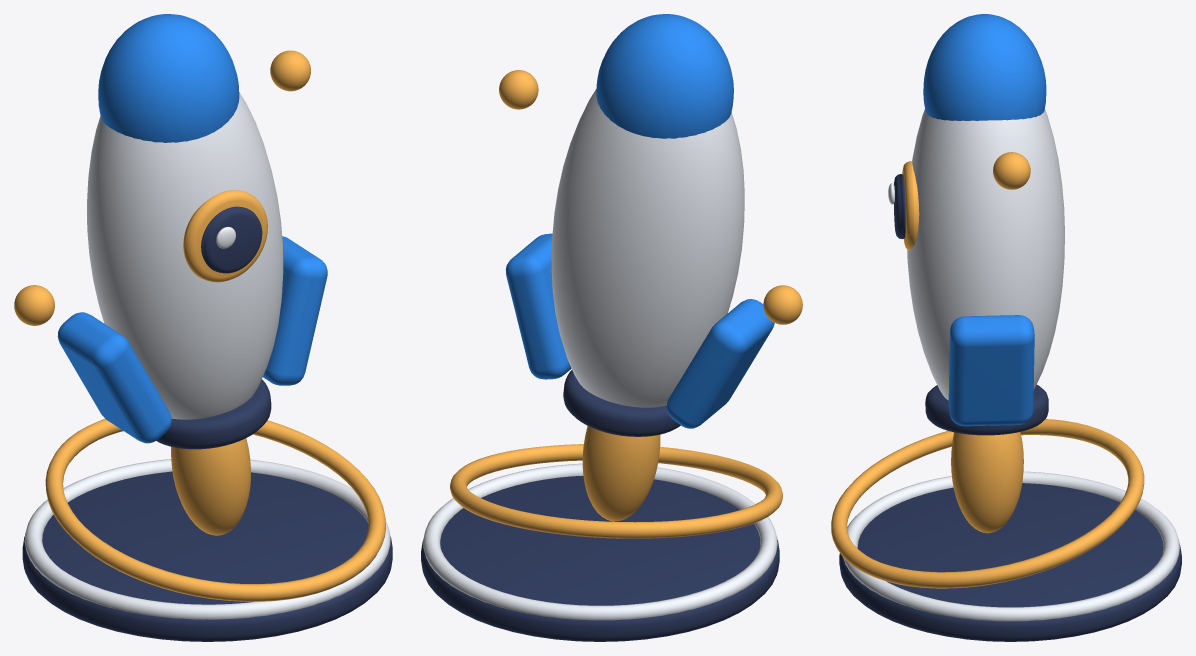
File: carousel-roadmap.glb
3 renders of one model, left to right at view 1: azimuth 30°, elevation 25°; view 2: azimuth 150°, elevation 25°; view 3: azimuth 270°, elevation 25°, orthographic. The views are drawn at different scales.
Visible parts, largest first — view 1: Rocket porcelain hull, Floating display plinth, Rocket cobalt nose, Trajectory, Plinth accent, Swept cobalt fin, Golden thrust, Swept cobalt fin.001, Engine collar, Brass portal rim, Portal midnight glass, Milestone satellite.001 (+1 smaller); view 2: Rocket porcelain hull, Floating display plinth, Rocket cobalt nose, Trajectory, Plinth accent, Swept cobalt fin, Swept cobalt fin.001, Golden thrust, Engine collar, Milestone satellite, Milestone satellite.001; view 3: Rocket porcelain hull, Floating display plinth, Rocket cobalt nose, Trajectory, Swept cobalt fin.001, Plinth accent, Golden thrust, Engine collar, Milestone satellite.001, Brass portal rim, Portal midnight glass.
Part boxes in pixels (box(x1,y1,x2,y2)): Rocket porcelain hull: box(87, 92, 283, 419); Floating display plinth: box(22, 471, 392, 641); Rocket cobalt nose: box(98, 14, 239, 142); Trajectory: box(45, 419, 385, 601); Plinth accent: box(24, 459, 390, 619); Swept cobalt fin: box(57, 312, 171, 443); Golden thrust: box(171, 438, 250, 535); Swept cobalt fin.001: box(263, 236, 327, 385); Engine collar: box(156, 379, 271, 449); Brass portal rim: box(183, 190, 267, 282); Portal midnight glass: box(201, 206, 262, 273); Milestone satellite.001: box(270, 50, 310, 91); Rocket porcelain hull: box(551, 89, 744, 407); Floating display plinth: box(421, 476, 779, 641); Rocket cobalt nose: box(596, 14, 733, 138); Trajectory: box(450, 444, 782, 538); Plinth accent: box(423, 463, 777, 620); Swept cobalt fin: box(666, 299, 774, 428); Swept cobalt fin.001: box(505, 233, 571, 379); Golden thrust: box(582, 426, 660, 521); Engine collar: box(563, 370, 680, 436); Milestone satellite: box(763, 285, 802, 324); Milestone satellite.001: box(499, 70, 538, 109); Rocket porcelain hull: box(907, 109, 1064, 400); Floating display plinth: box(839, 483, 1181, 641); Rocket cobalt nose: box(923, 14, 1046, 120); Trajectory: box(831, 419, 1144, 588); Swept cobalt fin.001: box(948, 315, 1034, 426); Plinth accent: box(843, 471, 1179, 621); Golden thrust: box(951, 432, 1023, 533); Engine collar: box(925, 385, 1048, 435); Milestone satellite.001: box(993, 152, 1030, 189); Brass portal rim: box(902, 161, 919, 250); Portal midnight glass: box(894, 174, 905, 238).
Bounding box in the file's own units: 3.04 × 4.63 × 2.79.
